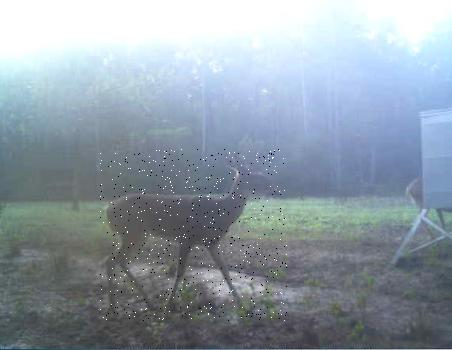Deer: (100, 149, 287, 321)
